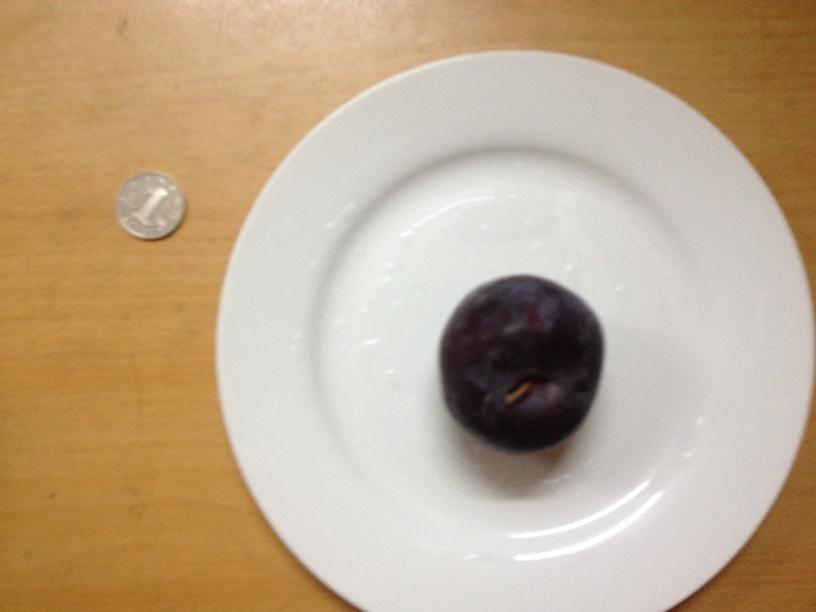coin: (111, 171, 188, 238)
plum: (434, 276, 603, 452)
